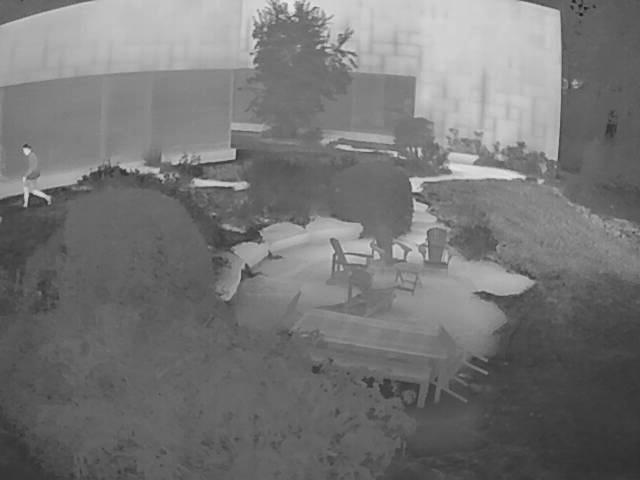person: (20, 142, 53, 211)
